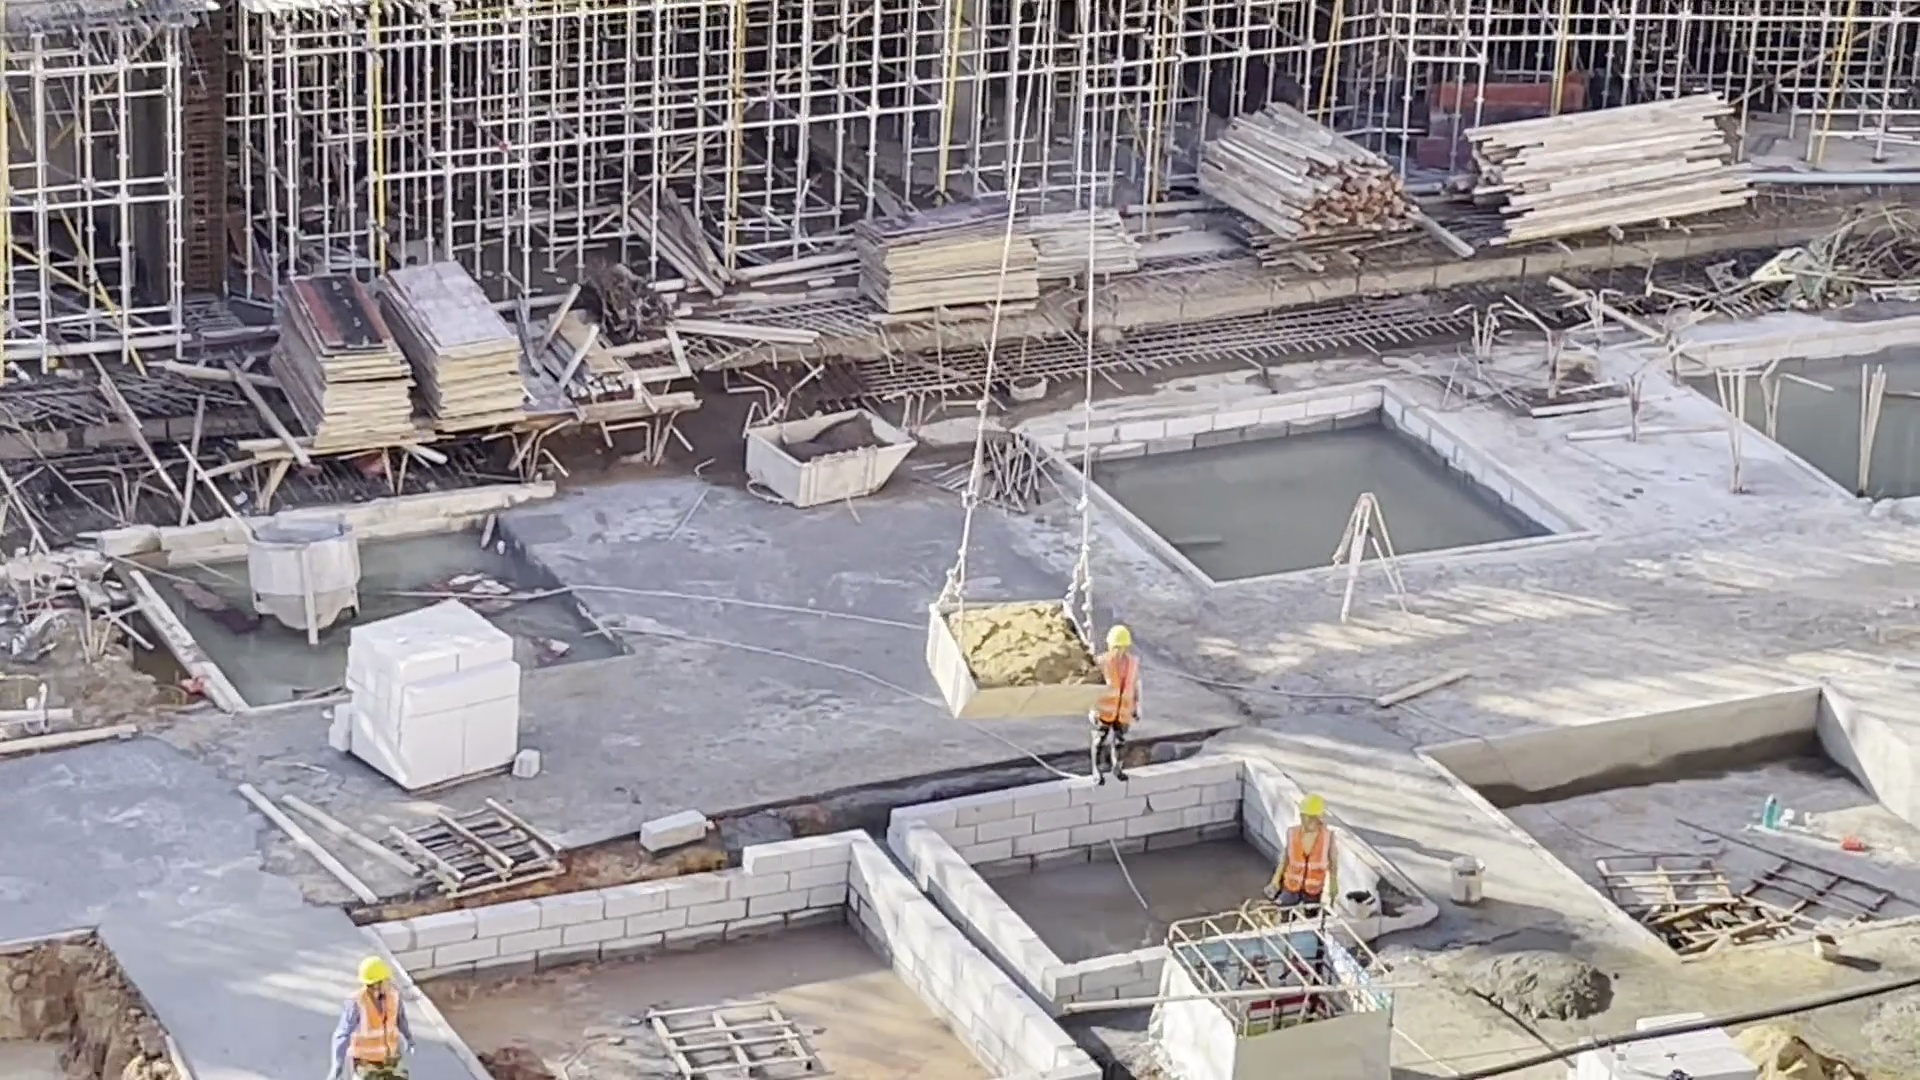board: (264, 267, 422, 458), (380, 253, 538, 438), (851, 197, 1045, 331)
brick: (324, 591, 535, 798)
helmet: (355, 956, 395, 985), (1099, 625, 1133, 648), (1296, 795, 1324, 819)
hopper: (919, 590, 1108, 717), (740, 402, 917, 511), (241, 515, 365, 648)
person: (324, 955, 422, 1080), (1082, 622, 1145, 787), (1265, 792, 1337, 914)
vest: (340, 984, 405, 1063), (1092, 655, 1140, 726), (1282, 829, 1333, 892)
wood: (1475, 89, 1759, 249), (1180, 100, 1432, 245)
